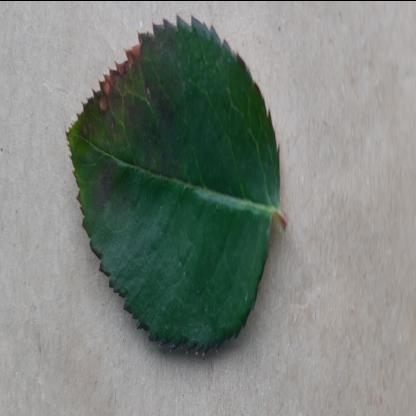powdery-mildew: (66, 13, 290, 354)
